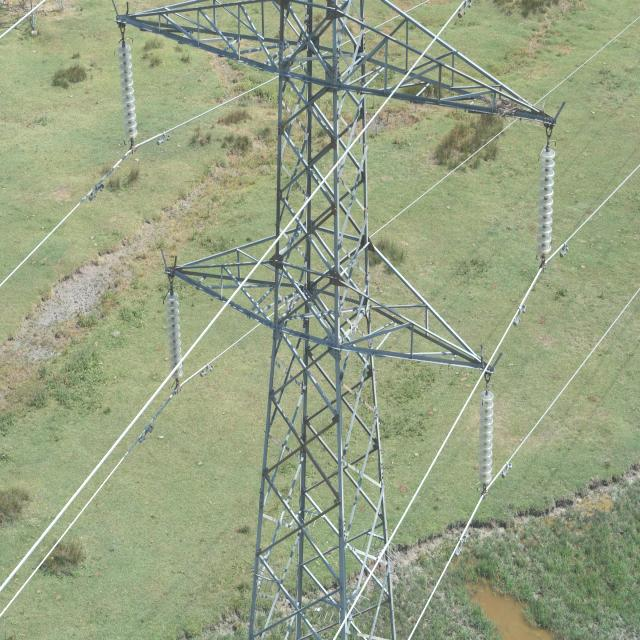voltage_line: (173, 4, 488, 636)
